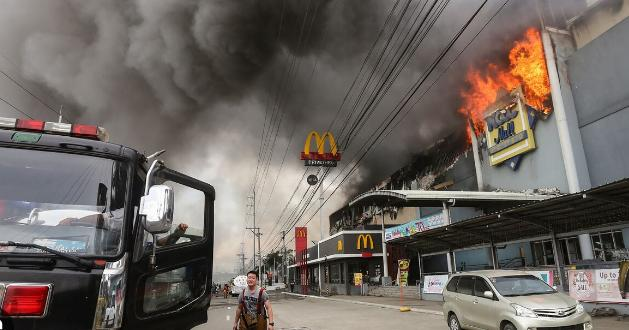fire: (434, 29, 587, 135)
